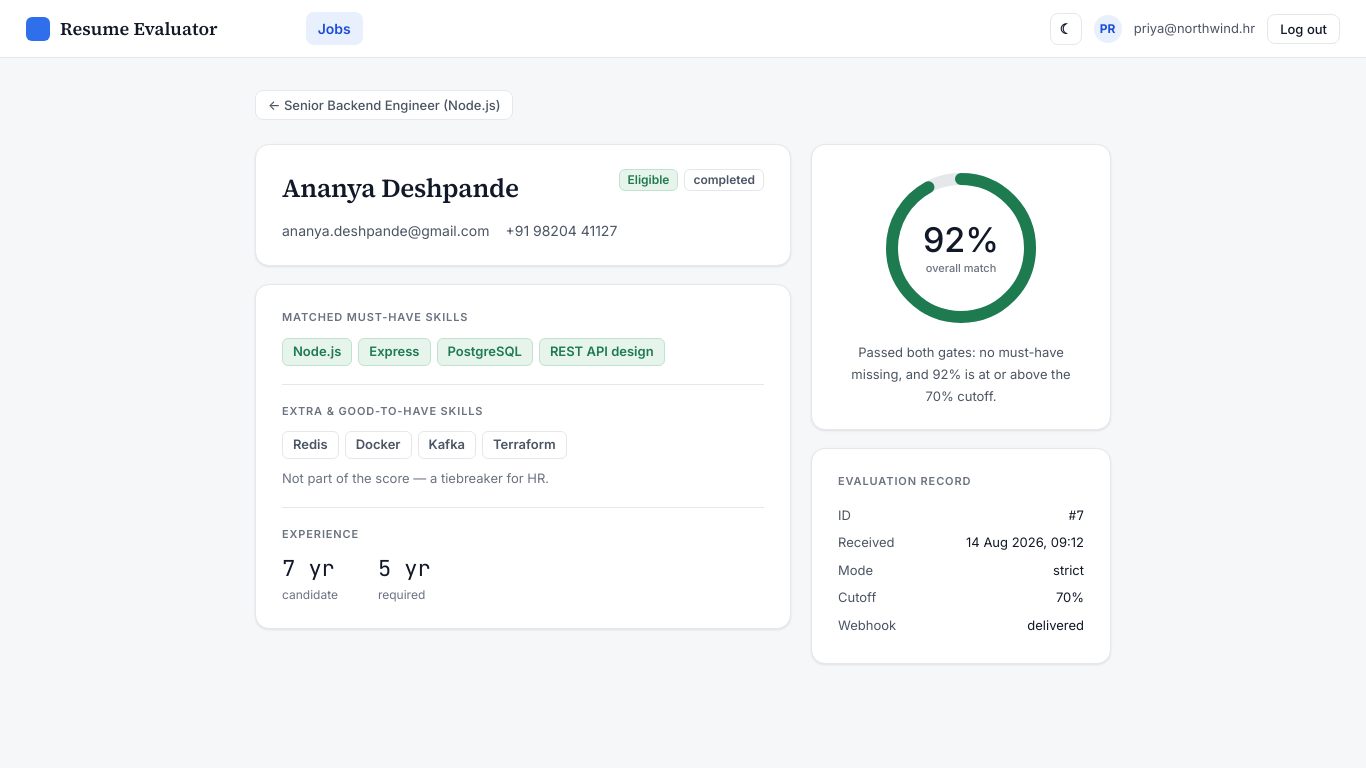
Scenario: Phase 6 - Candidate Detail › back link goes to that job's candidates, labelled with the job title
Click the link "← Senior Backend Engineer (Node.js)" at (384, 105), box [255,90,514,120]
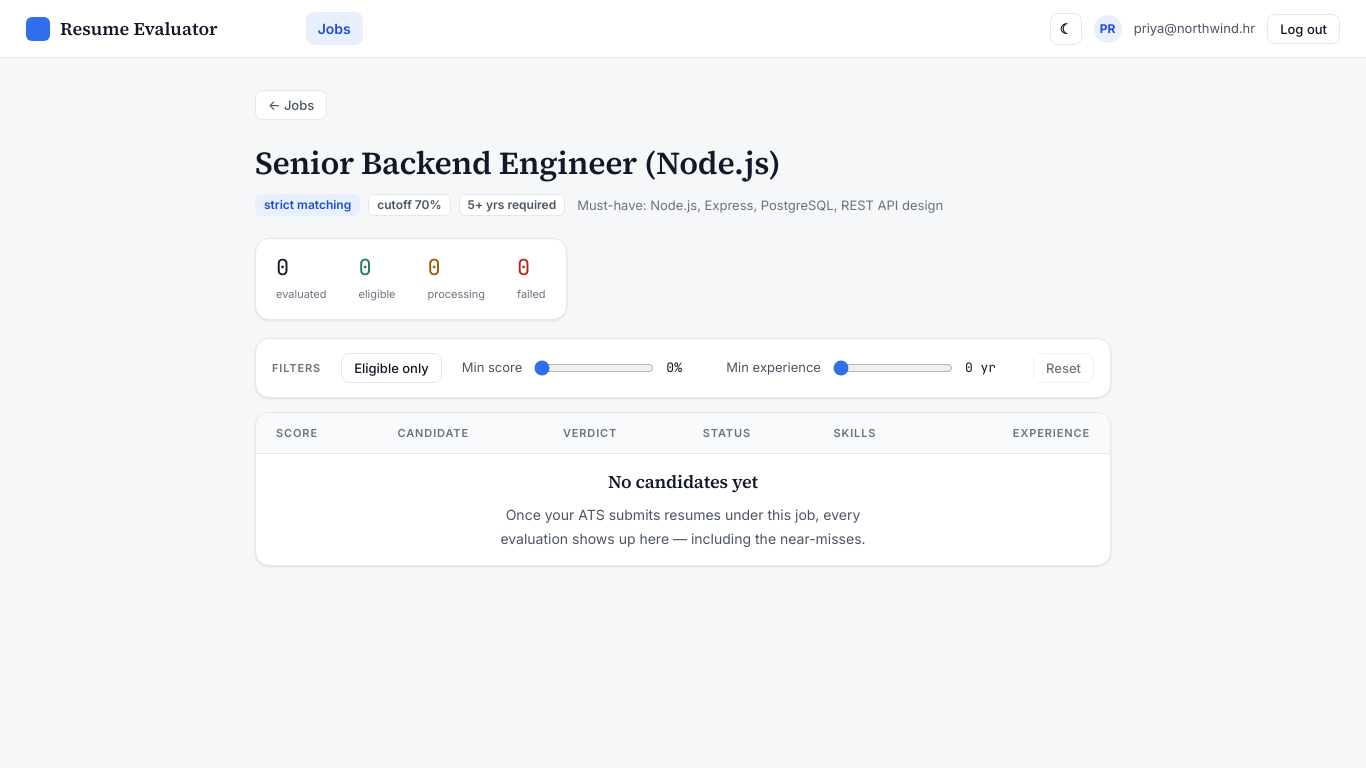
Expected: the heading "No candidates yet" is shown, [608,469,758,494]
